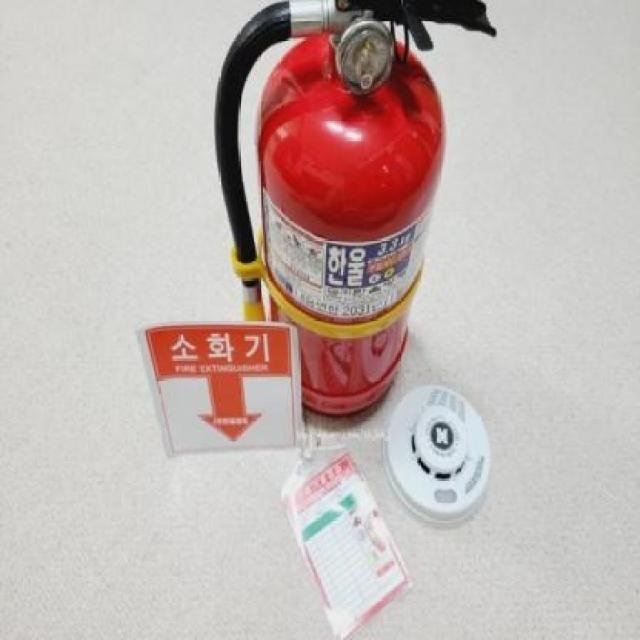fire extinguisher: (214, 0, 497, 417)
